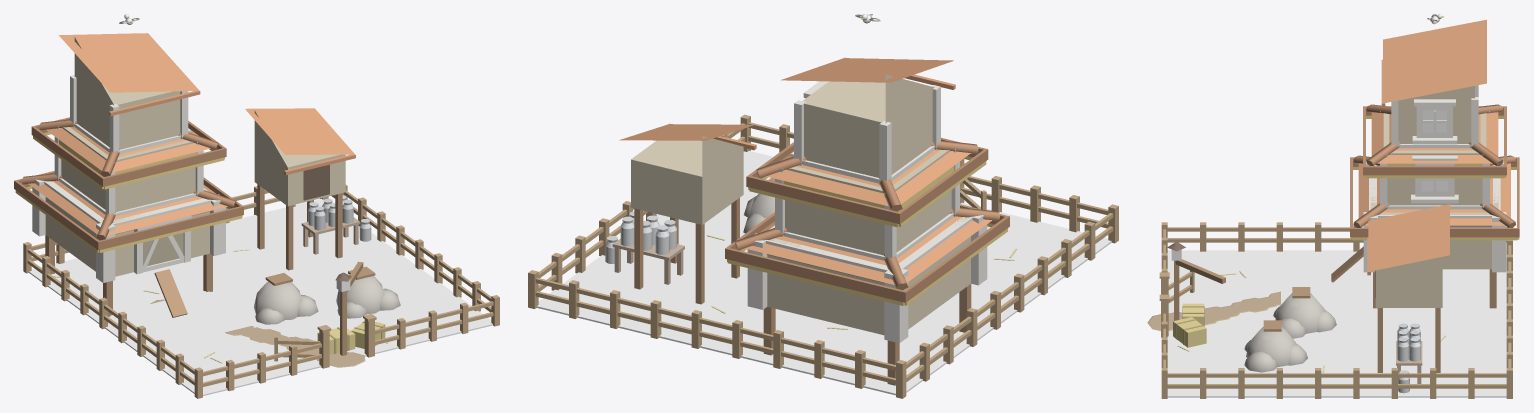
File: goat_pen_2.glb
The picture shows the model from 3 angles, left to right: view 1: azimuth 30°, elevation 25°; view 2: azimuth 150°, elevation 25°; view 3: azimuth 270°, elevation 25°; orthographic projection. The views are drawn at different scales.
Visible parts, largest first — view 1: body6, goat_pen_2, body2, body, body5, body3; view 2: body6, goat_pen_2, body5, body3; view 3: body6, goat_pen_2, body5.
Part boxes in pixels (x1,y1,x2,y2): body6: (14, 33, 499, 398); goat_pen_2: (110, 227, 369, 348); body2: (162, 233, 184, 267); body: (143, 238, 163, 272); body5: (342, 195, 371, 241); body3: (308, 202, 325, 230); body6: (528, 57, 1118, 398); goat_pen_2: (601, 250, 1013, 326); body5: (605, 211, 634, 263); body3: (655, 219, 676, 254); body6: (1147, 19, 1519, 398); goat_pen_2: (1281, 257, 1460, 381); body5: (1397, 337, 1420, 393).
Size of the model in its own units: 2.69 by 2.5 by 2.8.
